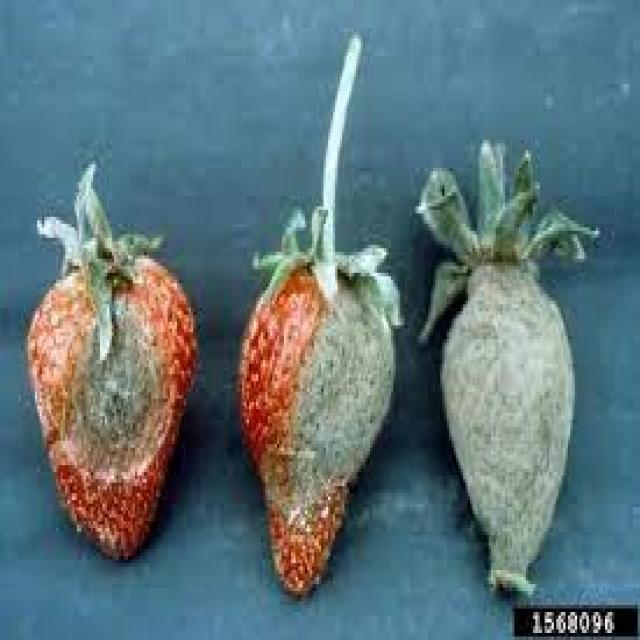Moho gris: (236, 241, 399, 586), (430, 256, 590, 594), (28, 244, 192, 566)
